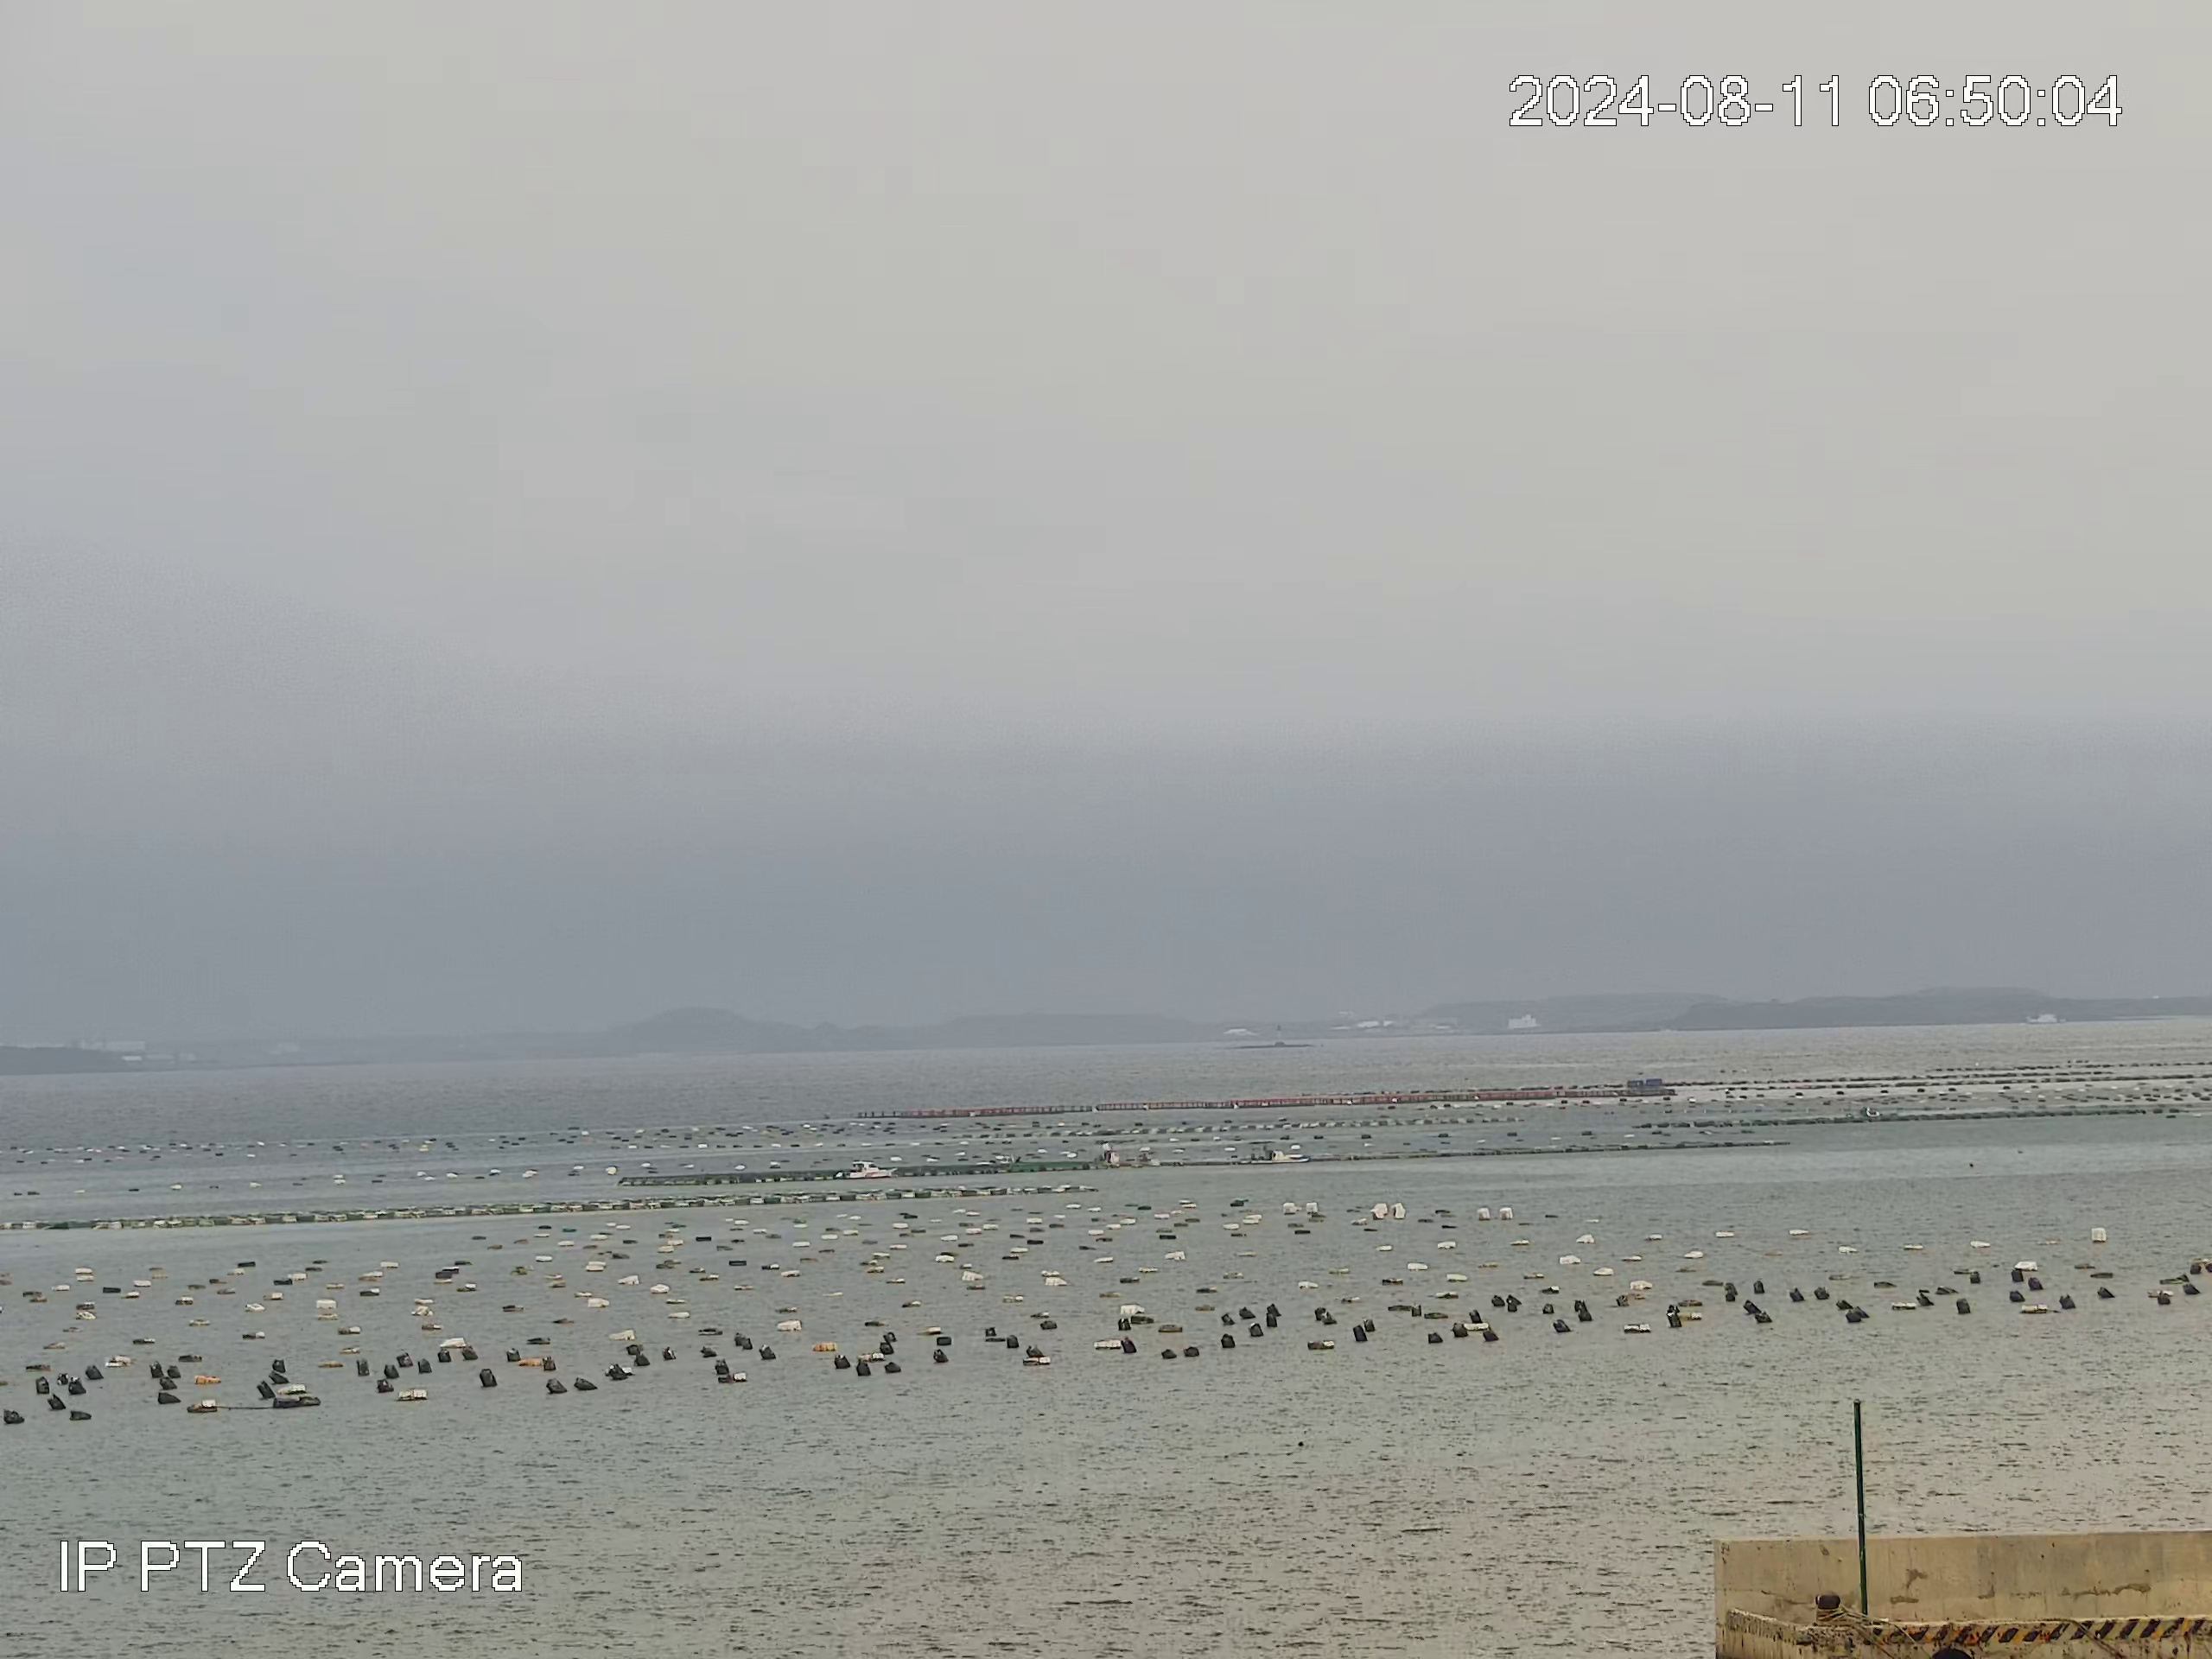boat: (833, 1159, 892, 1180), (1249, 1147, 1287, 1164)
